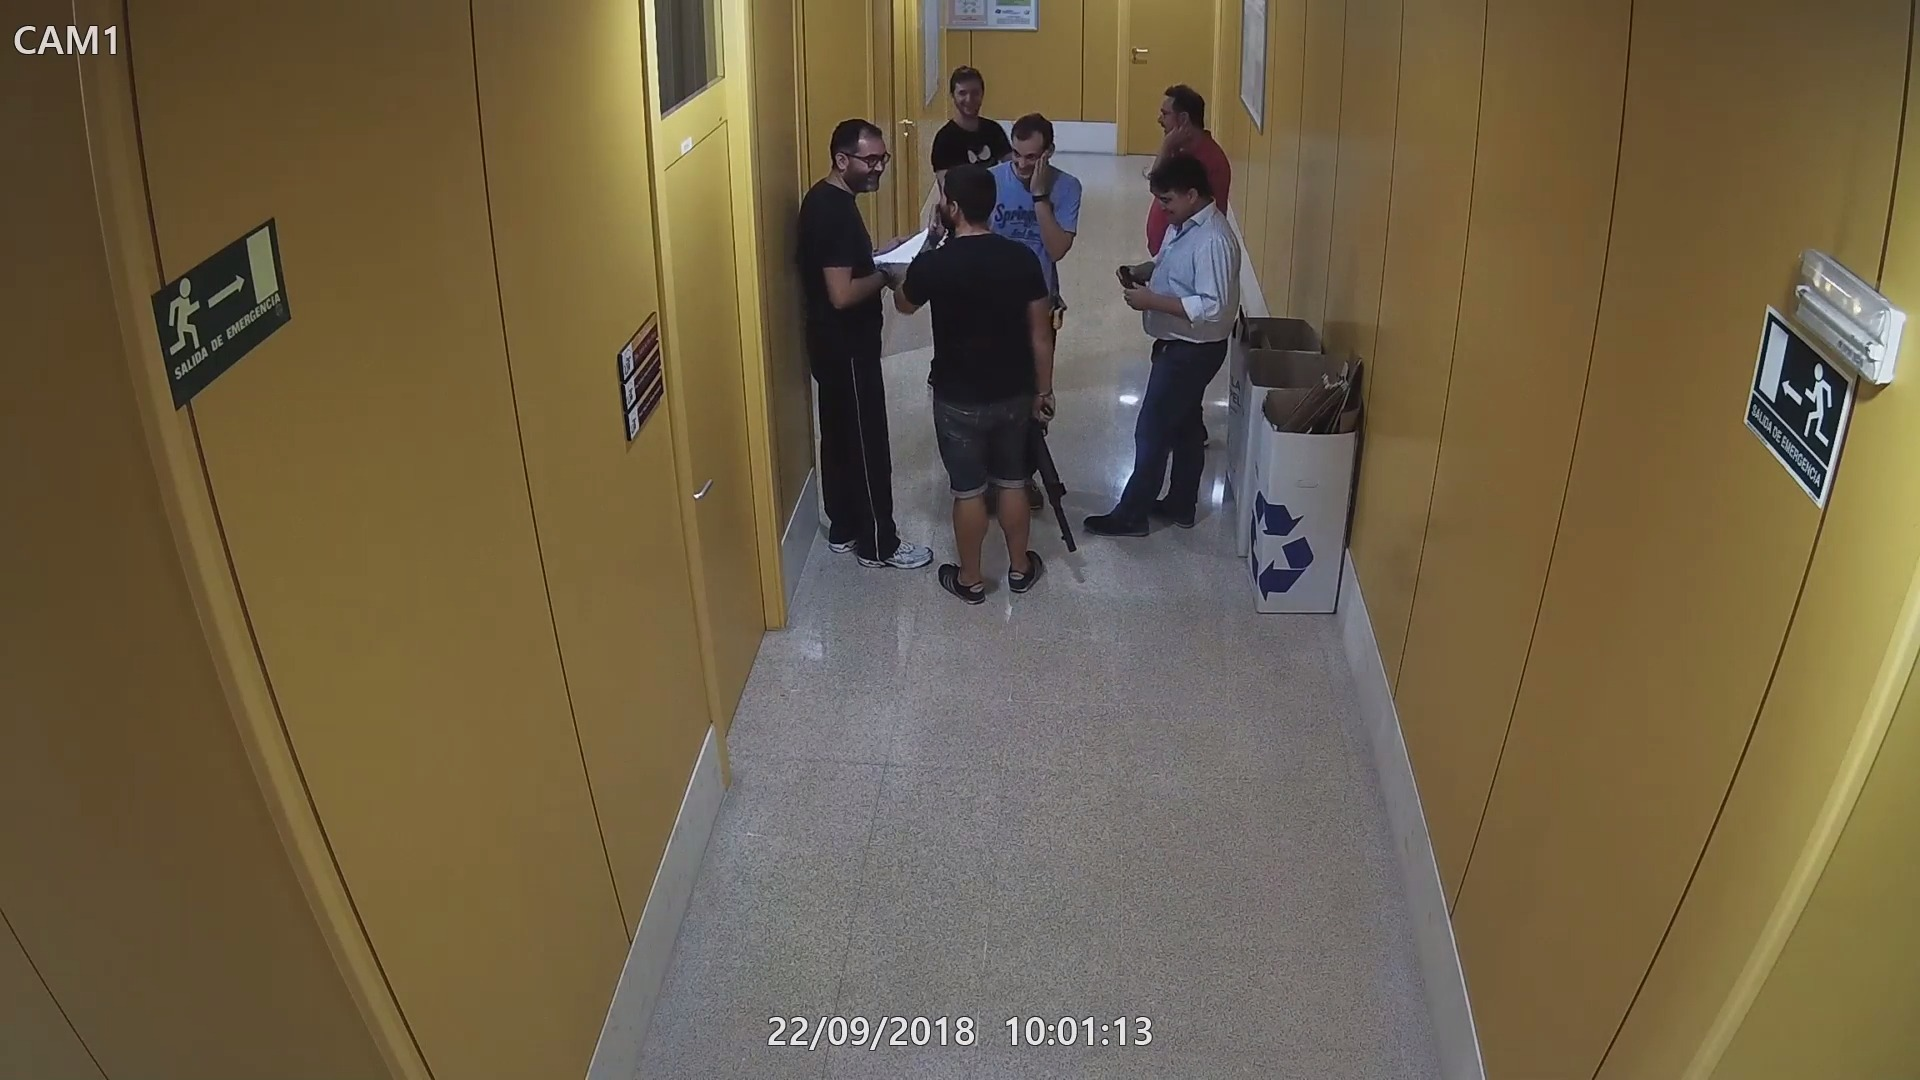Handgun: (1116, 262, 1145, 301)
Short_rifle: (1031, 401, 1081, 560)
